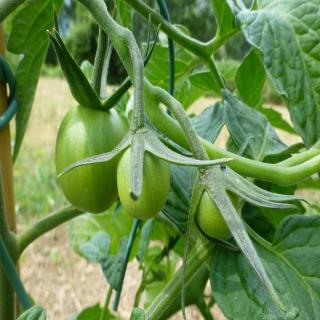tomato: (56, 82, 119, 211), (116, 146, 170, 221), (195, 190, 238, 237)
